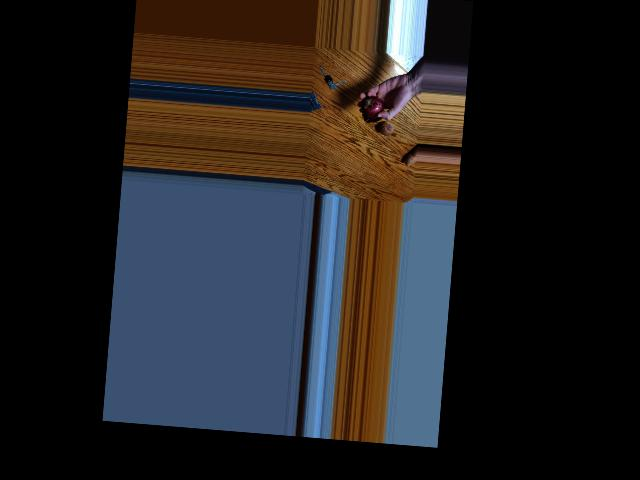onion: (360, 95, 383, 118)
